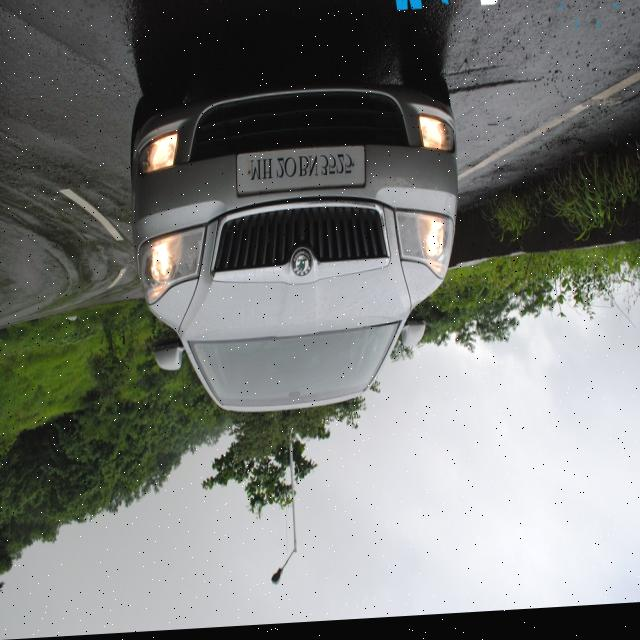plate: (237, 152, 366, 198)
